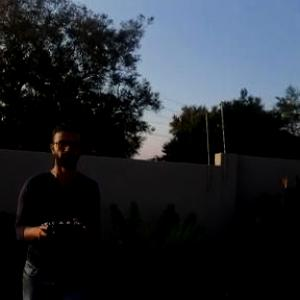follow: (11, 115, 106, 299)
